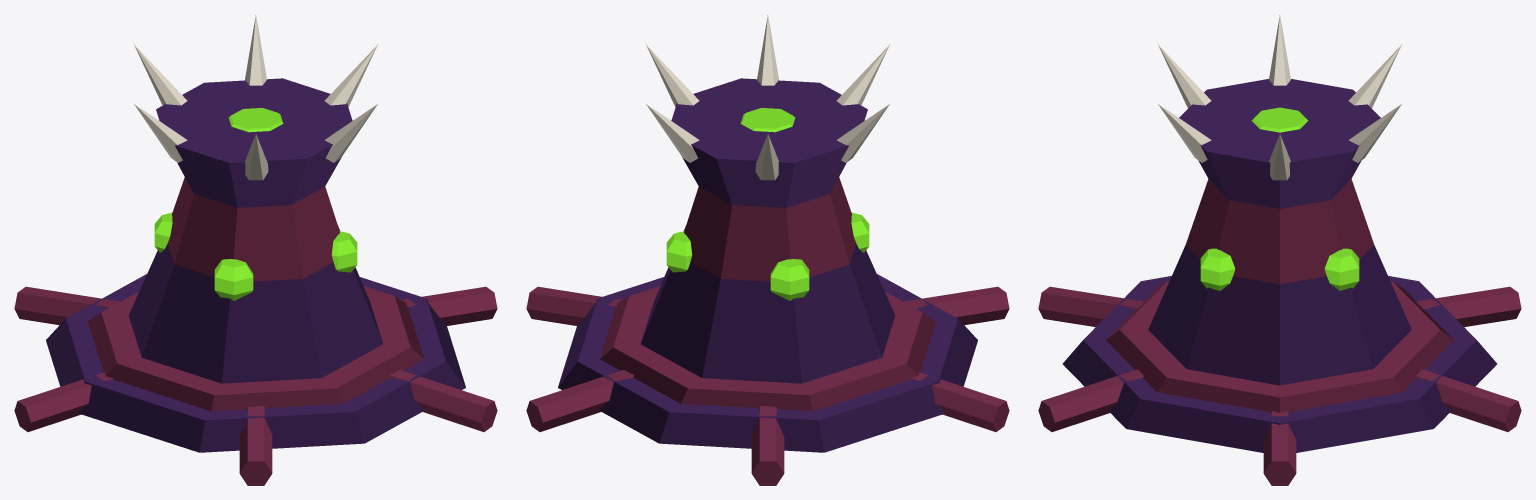
File: krynn_purifier.obj
The picture shows the model from 3 angles, left to right: view 1: azimuth 30°, elevation 25°; view 2: azimuth 150°, elevation 25°; view 3: azimuth 270°, elevation 25°; orthographic projection.
Parts seen in each view (by area): view 1: ModelMesh; view 2: ModelMesh; view 3: ModelMesh.
Boxes of the visible parts, x1,y1,x2,y2 form: ModelMesh: [14, 15, 497, 485]; ModelMesh: [526, 15, 1009, 485]; ModelMesh: [1038, 15, 1521, 485].
Size of the model in its own units: 1.15 by 0.7002 by 1.03.
